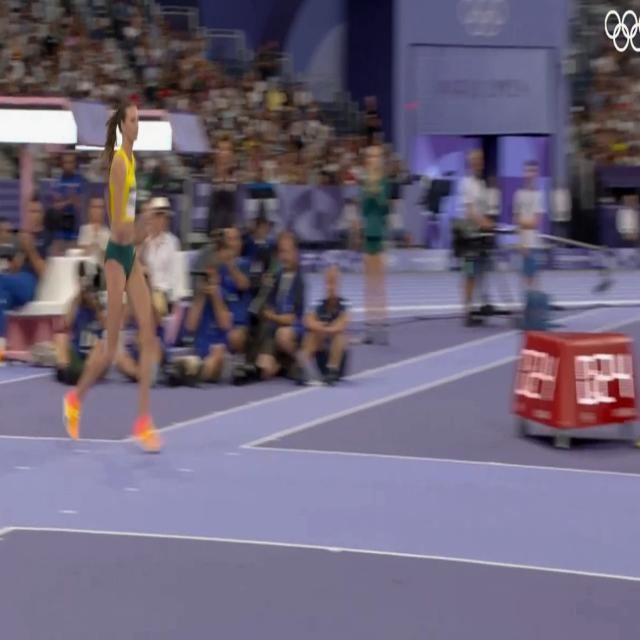run: (67, 100, 162, 456)
